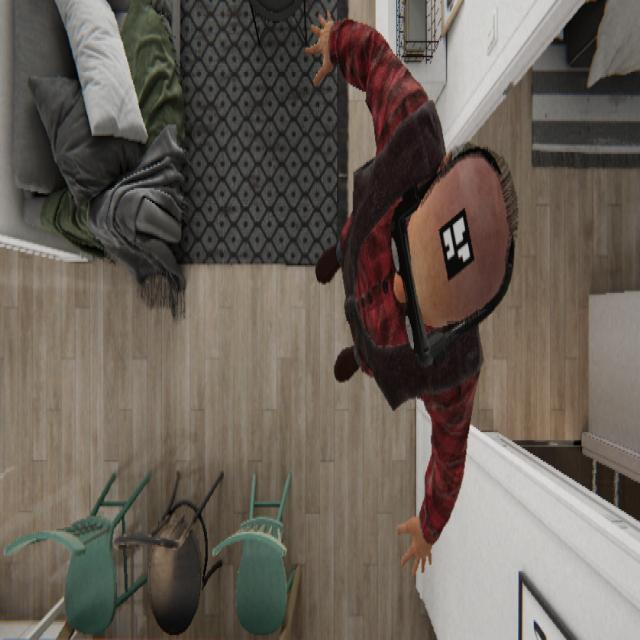AruCO: (438, 203, 475, 282)
Human: (303, 6, 519, 578)
